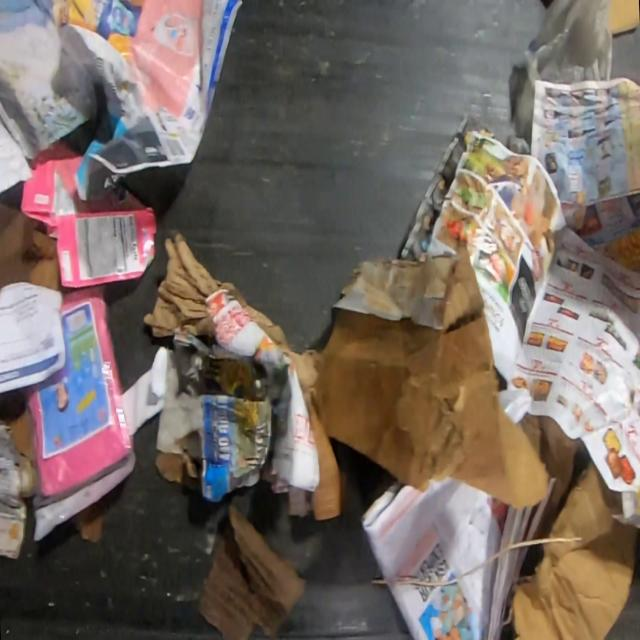cardboard: (144, 236, 550, 521), (508, 465, 639, 640), (22, 136, 156, 291), (195, 505, 306, 639), (0, 201, 63, 291), (0, 388, 34, 467)
soft_plastic: (20, 284, 137, 544), (508, 0, 613, 156)
